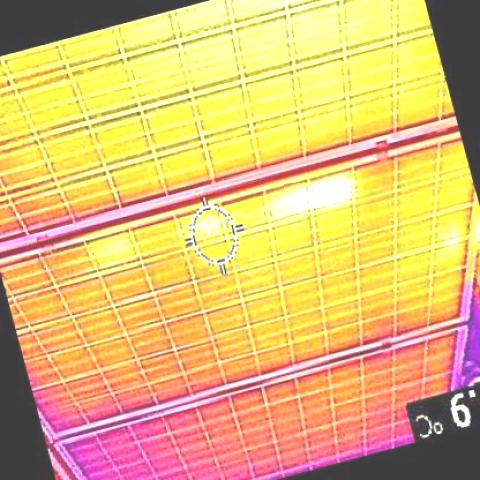fault: (284, 184, 352, 220)
